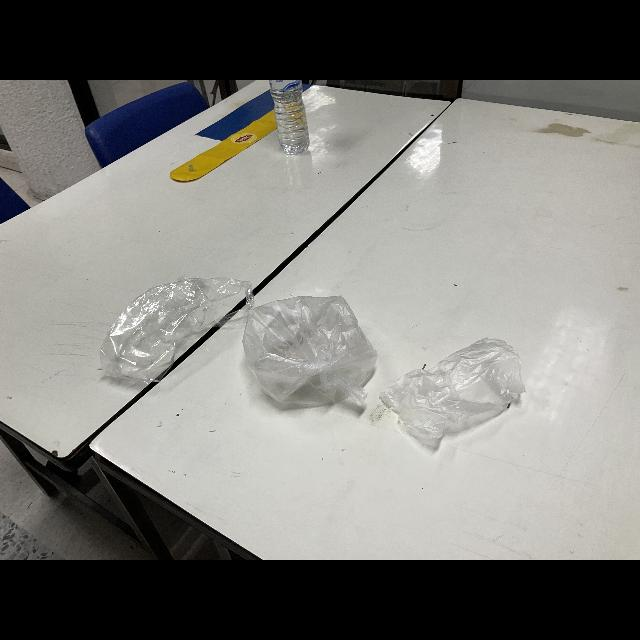plastic_bag: (98, 264, 260, 388), (235, 286, 378, 420)
scrap_plastic: (380, 338, 528, 444)
